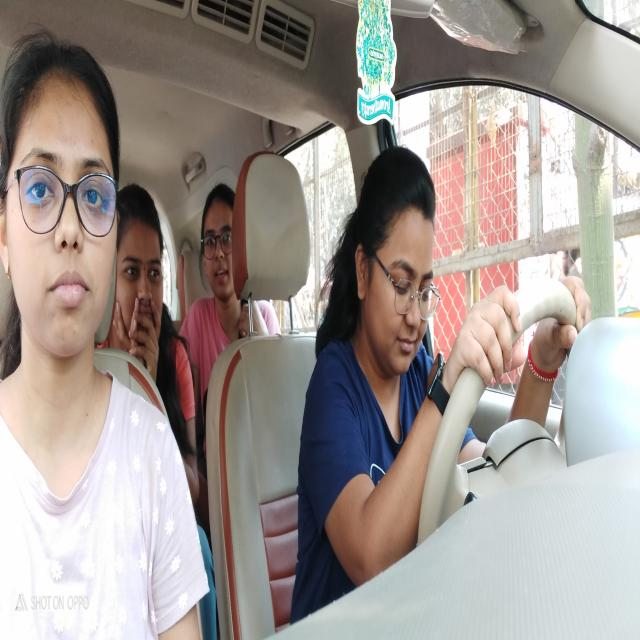drowsy: (353, 162, 443, 374)
person: (0, 57, 126, 366), (119, 169, 169, 356), (199, 174, 239, 295)
